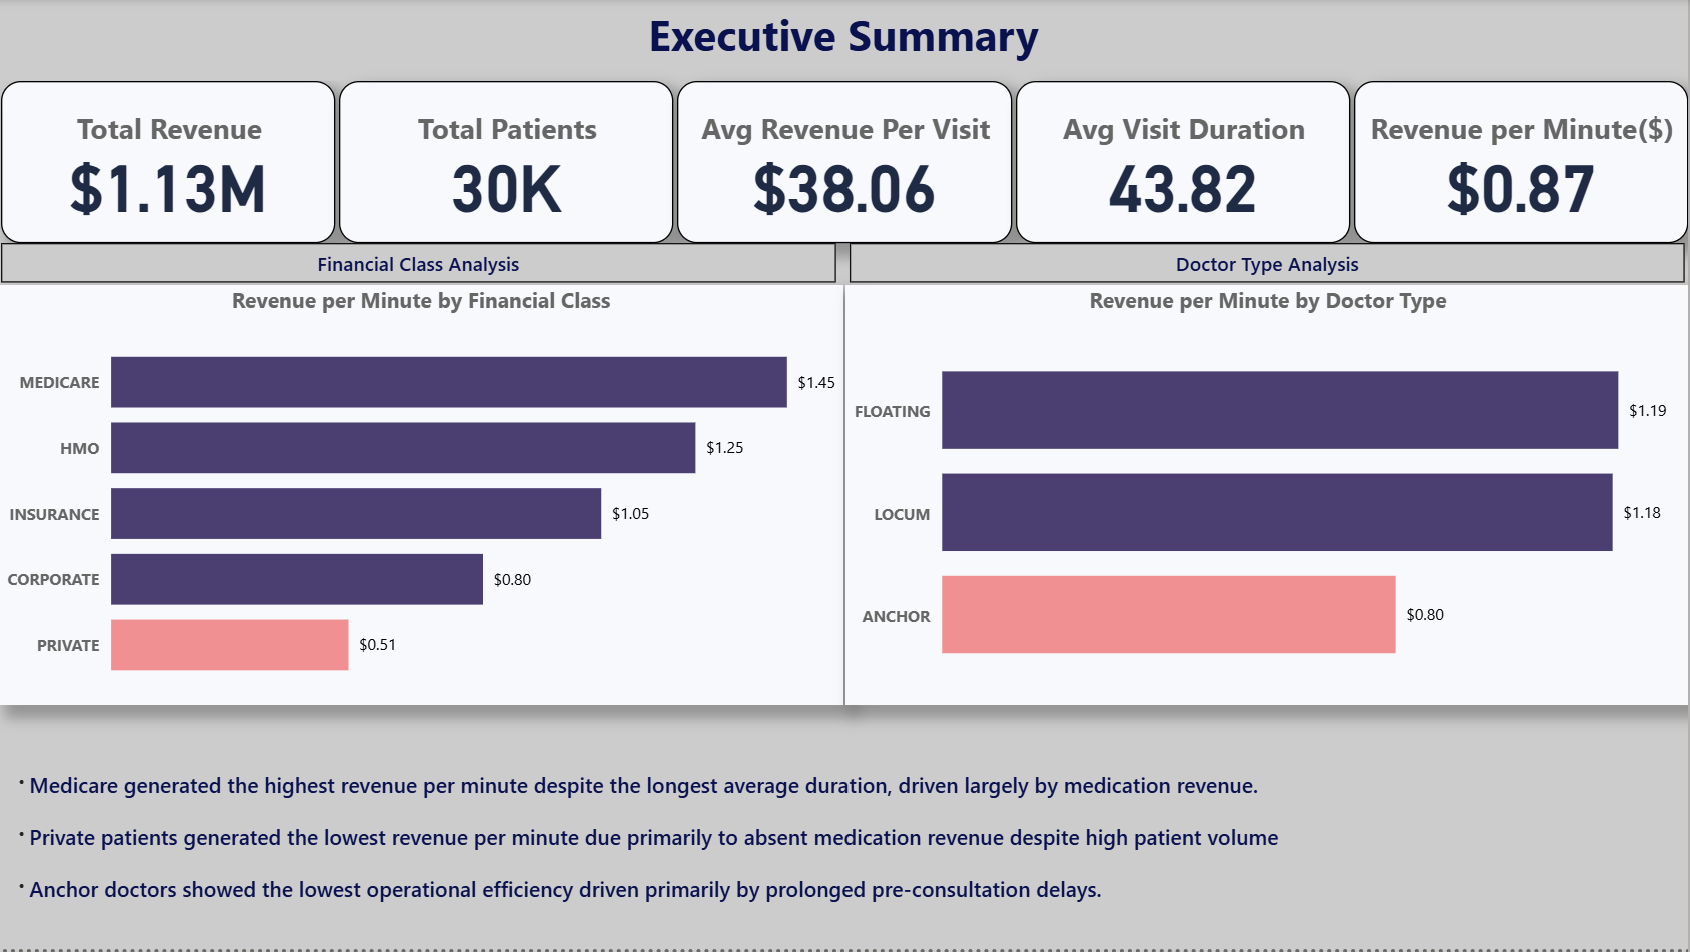

Layout of this report page (visuals, bound fields, positions):
{"tool":"powerbi","page":{"name":"Executive Overview","canvas":[1280,720],"ordinal":0},"visuals":[{"type":"card","title":"Total Revenue","fields":{"Values":["Sum(🧹hospital_efficiency.total_revenue)"]},"box":[1.5,62.2,253.3,122.8],"z":0},{"type":"textbox","box":[0,0,1280,62.2],"z":1000},{"type":"card","title":"Total Patients","fields":{"Values":["CountNonNull(🧹hospital_efficiency.patient_id)"]},"box":[257.8,62.2,253.3,122.8],"z":2000},{"type":"card","title":"Avg Revenue Per Visit","fields":{"Values":["Avg(🧹hospital_efficiency.total_revenue)"]},"box":[514.1,62.2,253.3,122.8],"z":3000},{"type":"card","title":"Avg Visit Duration","fields":{"Values":["Avg(🧹hospital_efficiency.total_visit_duration)"]},"box":[770.4,62.2,253.3,122.8],"z":4000},{"type":"card","title":"Revenue per Minute($)","fields":{"Values":["🧹hospital_efficiency.Revenue per Minute"]},"box":[1026.7,62.2,253.3,122.8],"z":5000},{"type":"clusteredBarChart","title":"Revenue per Minute by Financial Class","fields":{"Category":["🧹hospital_efficiency.financial_class"],"Y":["🧹hospital_efficiency.Revenue per Minute"]},"box":[0,216.9,640,318.5],"z":6000},{"type":"clusteredBarChart","title":"Revenue per Minute by Doctor Type","fields":{"Category":["🧹hospital_efficiency.doctor_type"],"Y":["🧹hospital_efficiency.Revenue per Minute"]},"box":[641.5,216.9,640,318.5],"z":7000},{"type":"pageNavigator","box":[1.5,185,1277,30.3],"z":8000},{"type":"textbox","box":[0,579.3,1278.5,141],"z":9000}]}

Visuals, with their boxes in screenshot pixels (x1, y1, x2, y2), scaled from the page's 1280x720 canvas onto the 1690x952 screenshot:
"Total Revenue" card: <region>2, 82, 336, 245</region>
textbox: <region>0, 0, 1689, 82</region>
"Total Patients" card: <region>340, 82, 675, 245</region>
"Avg Revenue Per Visit" card: <region>679, 82, 1013, 245</region>
"Avg Visit Duration" card: <region>1017, 82, 1352, 245</region>
"Revenue per Minute($)" card: <region>1356, 82, 1689, 245</region>
"Revenue per Minute by Financial Class" clusteredBarChart: <region>0, 287, 845, 708</region>
"Revenue per Minute by Doctor Type" clusteredBarChart: <region>847, 287, 1689, 708</region>
pageNavigator: <region>2, 245, 1688, 285</region>
textbox: <region>0, 766, 1688, 951</region>
